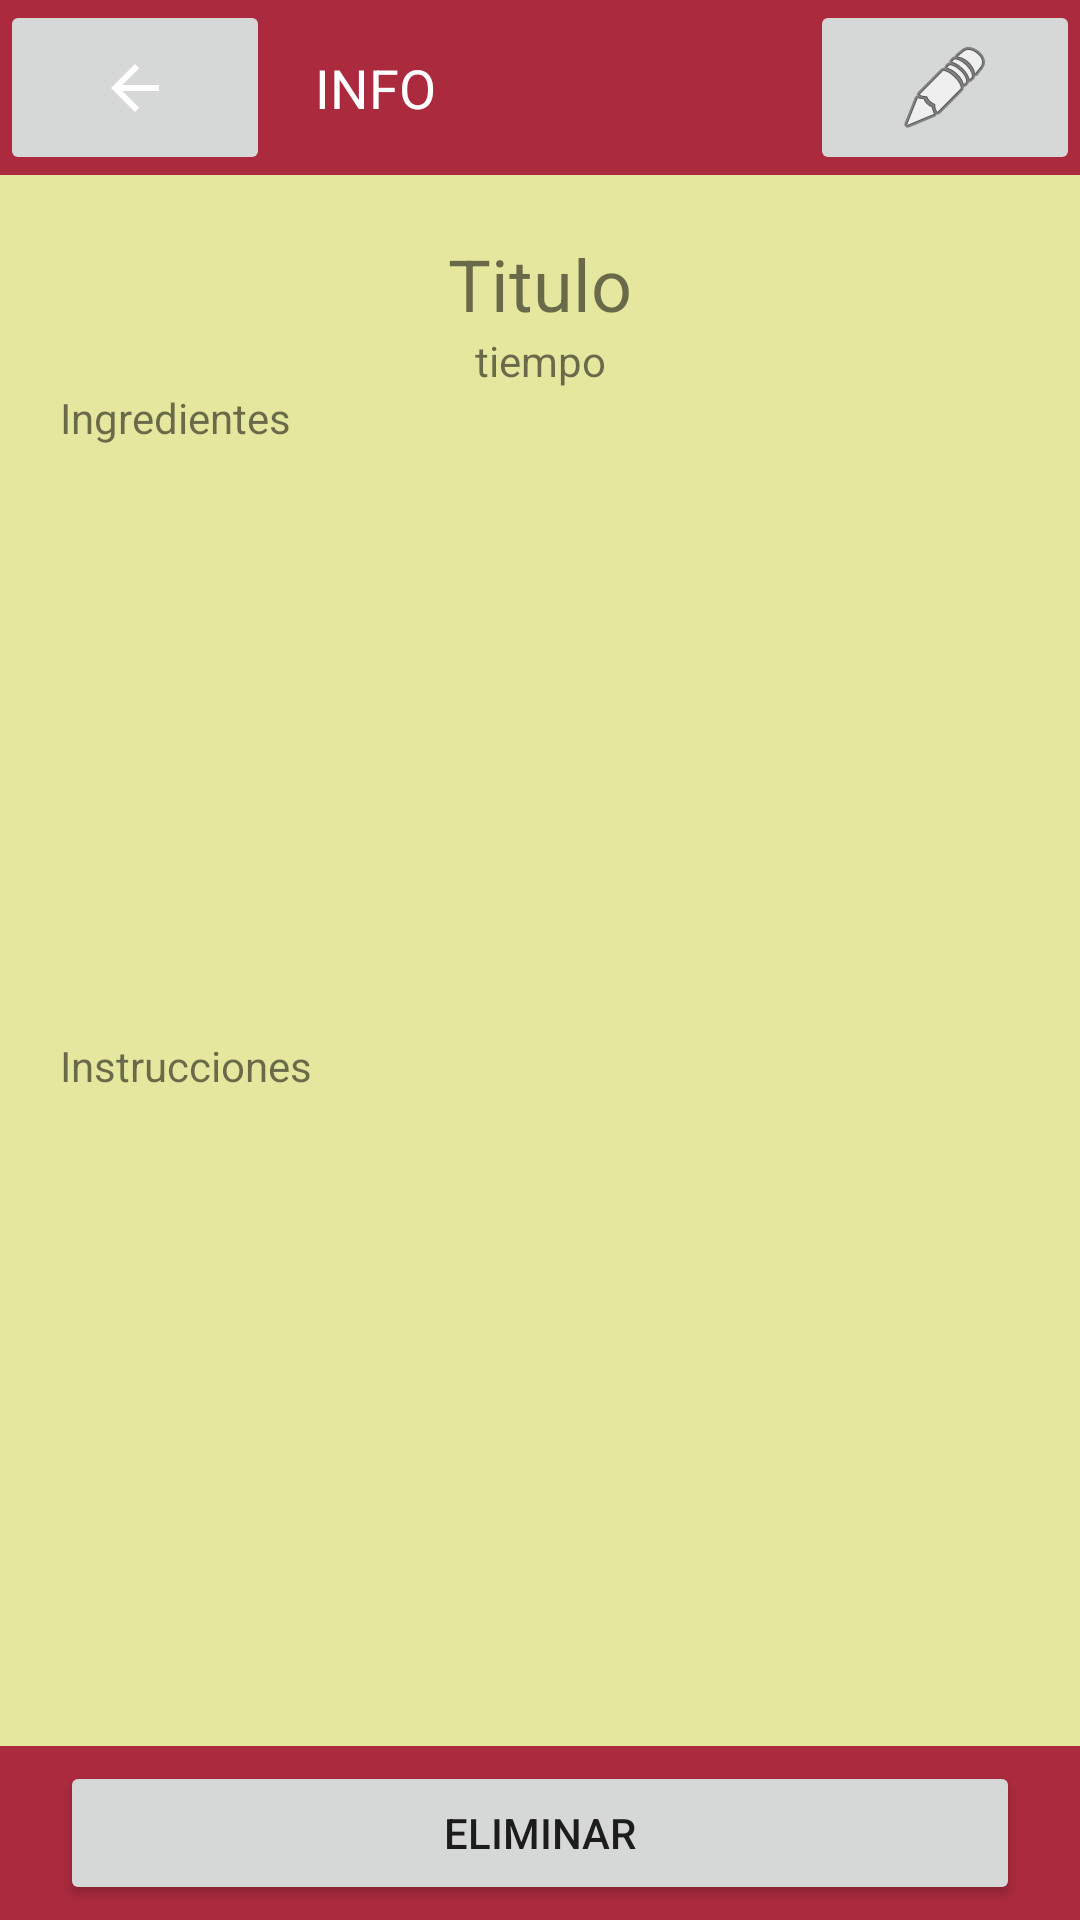

Where icons sit on this 1080 x 1920 app screen, as rect(x1, y1, x2, y2):
edit: rect(822, 18, 1068, 157)
